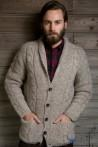S_cardigan sweater: (6, 38, 95, 146)
